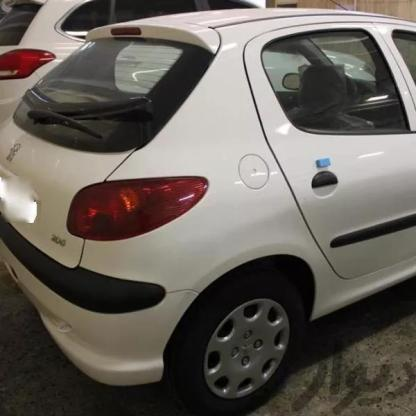Car: (0, 8, 416, 416), (0, 0, 175, 126)
